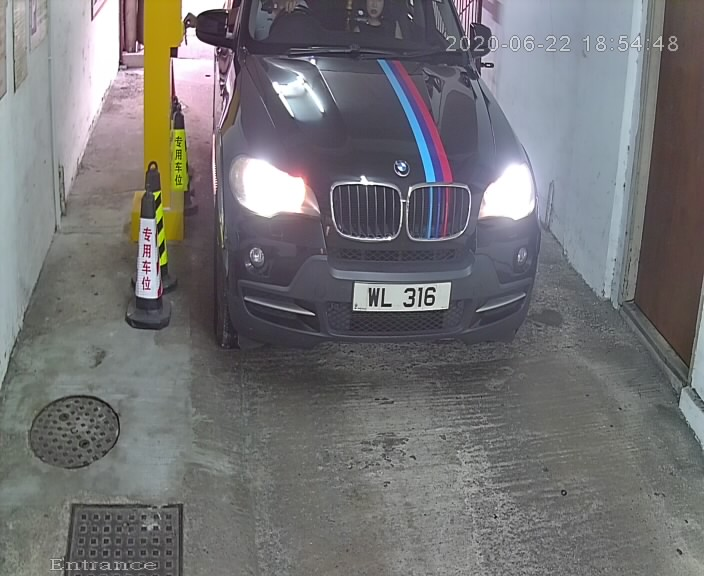privatecar: (190, 1, 577, 361)
